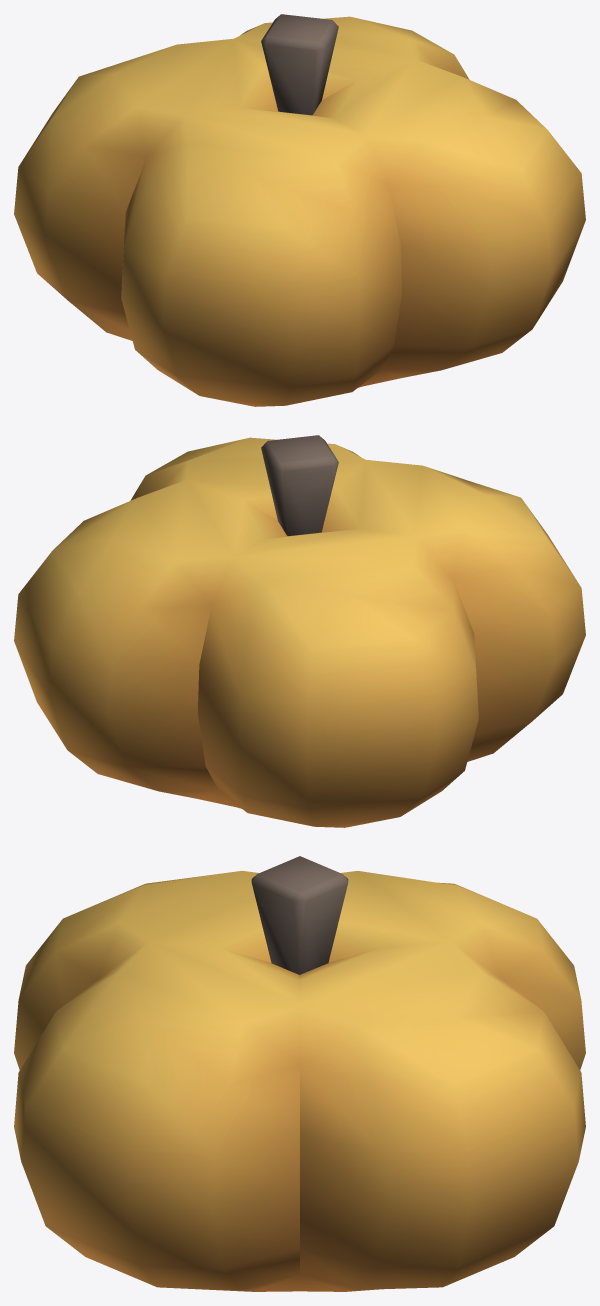
The model's file is pumpkin-yellow.glb.
The picture shows the model from 3 angles, top to bottom: view 1: azimuth 30°, elevation 25°; view 2: azimuth 150°, elevation 25°; view 3: azimuth 270°, elevation 25°; orthographic projection. The views are drawn at different scales.
Visible parts, largest first — view 1: pumpkin_yellow; view 2: pumpkin_yellow; view 3: pumpkin_yellow.
Part boxes in pixels (x1,y1,x2,y2): pumpkin_yellow: [14, 14, 585, 406]; pumpkin_yellow: [14, 435, 585, 827]; pumpkin_yellow: [14, 856, 585, 1291].
Size of the model in its own units: 1 by 0.7 by 1.
1 material, 1 textured.
